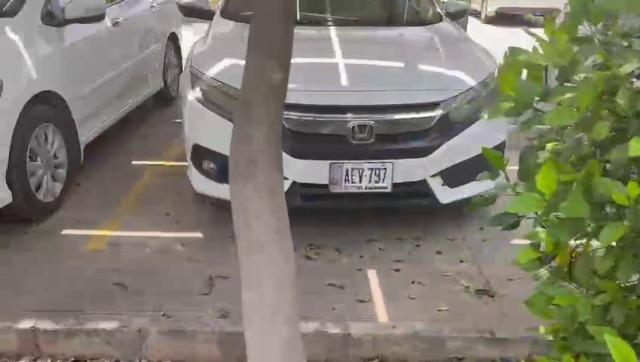plate: (328, 162, 394, 192)
